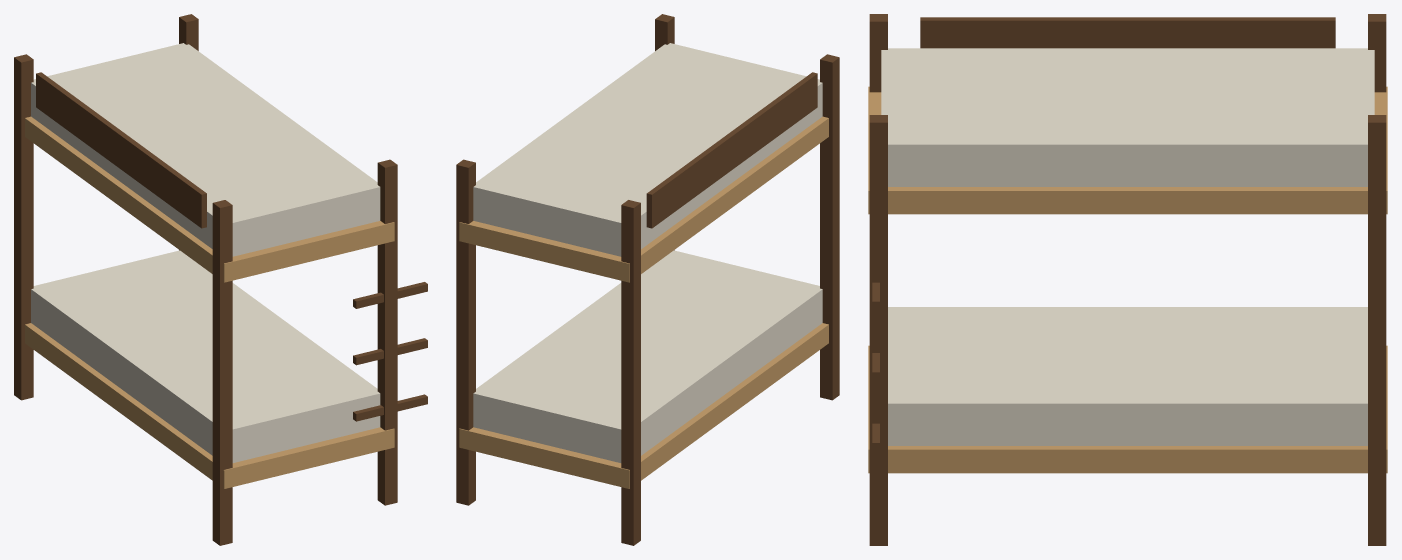
File: GH_Bed_Bunk_01.glb
3 renders of one model, left to right at view 1: azimuth 30°, elevation 25°; view 2: azimuth 150°, elevation 25°; view 3: azimuth 270°, elevation 25°, orthographic. The views are drawn at different scales.
Visible parts, largest first — view 1: GH_Bed_Bunk_01; view 2: GH_Bed_Bunk_01; view 3: GH_Bed_Bunk_01.
Boxes of the visible parts, <box> form: GH_Bed_Bunk_01: <box>14,14,427,545</box>; GH_Bed_Bunk_01: <box>456,14,839,545</box>; GH_Bed_Bunk_01: <box>868,14,1387,545</box>.
Bounding box in the file's own units: 1.17 × 1.8 × 2.
1 material, 1 textured.
